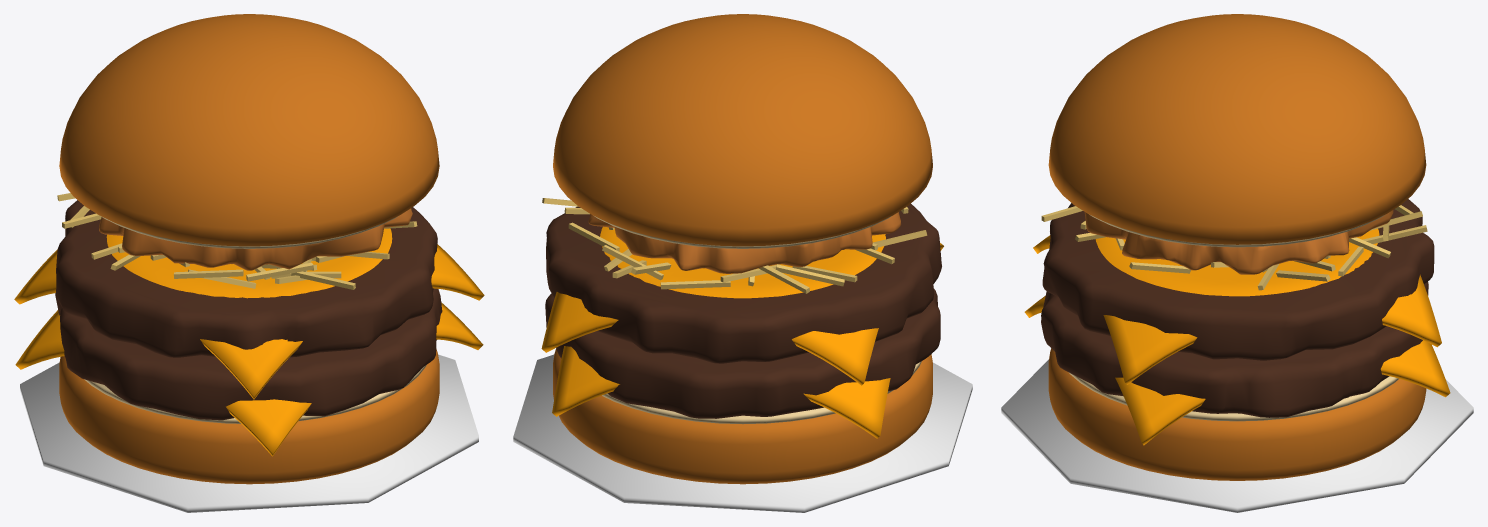
Rendered from burguer-de-la-casa-demo.glb.
The picture shows the model from 3 angles, left to right: view 1: azimuth 30°, elevation 25°; view 2: azimuth 150°, elevation 25°; view 3: azimuth 270°, elevation 25°; orthographic projection.
Parts seen in each view (by area): view 1: burguer-de-la-casa; view 2: burguer-de-la-casa; view 3: burguer-de-la-casa.
Boxes of the visible parts, left/top/right/bottom form: burguer-de-la-casa: left=14, top=14, right=484, bottom=512; burguer-de-la-casa: left=513, top=14, right=972, bottom=512; burguer-de-la-casa: left=1001, top=14, right=1473, bottom=512.
Size of the model in its own units: 0.15 by 0.132 by 0.15.
